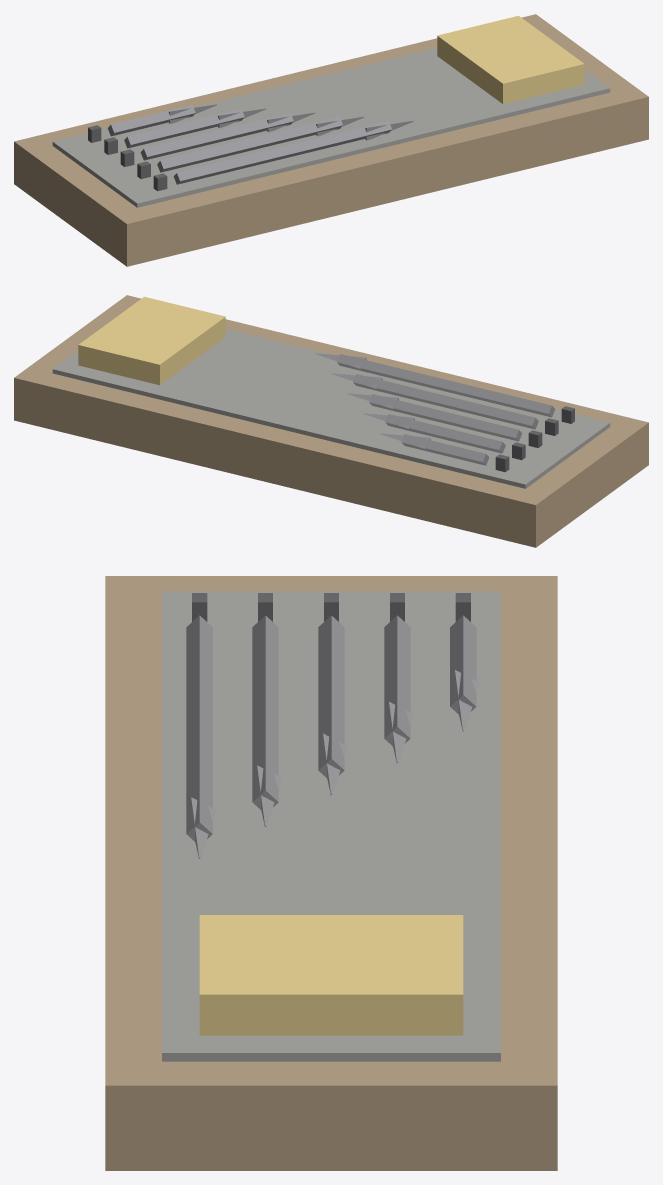
File: prop-sail-needle-set.fbx
The picture shows the model from 3 angles, top to bottom: view 1: azimuth 30°, elevation 25°; view 2: azimuth 150°, elevation 25°; view 3: azimuth 270°, elevation 25°; orthographic projection. The views are drawn at different scales.
Parts seen in each view (by area): view 1: prop-sail-needle-set; view 2: prop-sail-needle-set; view 3: prop-sail-needle-set.
Boxes of the visible parts, box(x1,y1,x2,y2) form: prop-sail-needle-set: box(14, 14, 648, 266); prop-sail-needle-set: box(14, 295, 648, 547); prop-sail-needle-set: box(105, 576, 557, 1170).
Bounding box in the file's own units: 32 × 4 × 12.
